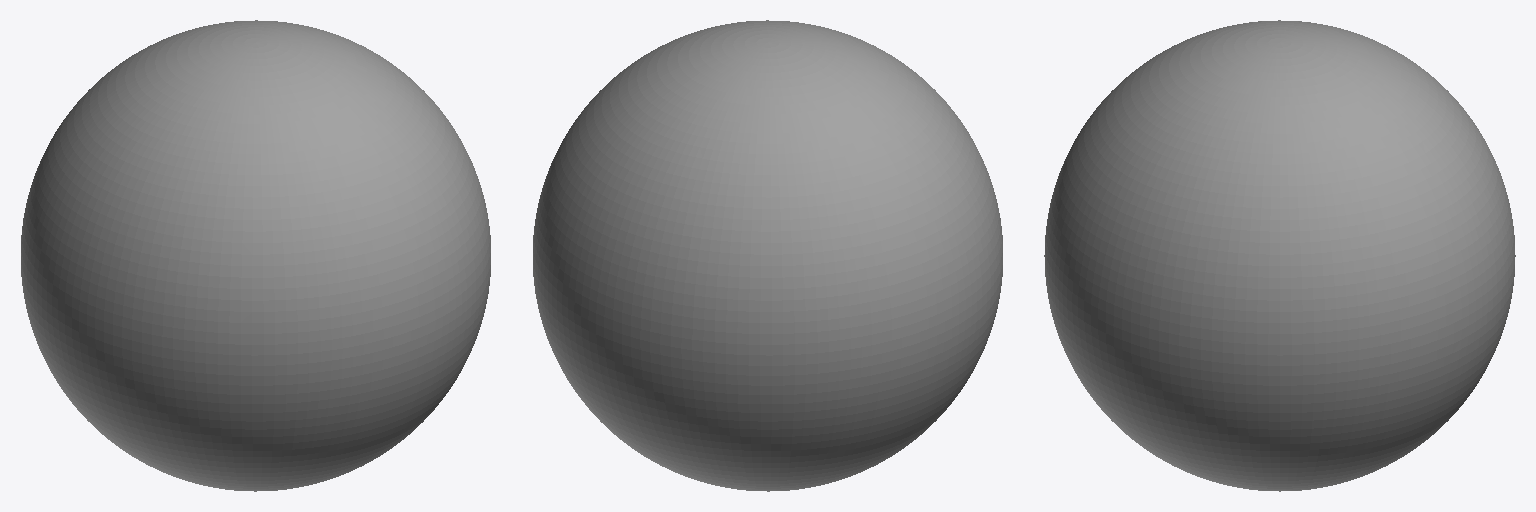
File: SteelBallTooSmall.obj
3 views of the same model, side by side, from view 1: azimuth 30°, elevation 25°; view 2: azimuth 150°, elevation 25°; view 3: azimuth 270°, elevation 25° (orthographic).
Parts seen in each view (by area): view 1: SteelBall_Sphere; view 2: SteelBall_Sphere; view 3: SteelBall_Sphere.
Part boxes in pixels (bbox=[...]): SteelBall_Sphere: bbox=[21, 20, 490, 491]; SteelBall_Sphere: bbox=[533, 20, 1002, 491]; SteelBall_Sphere: bbox=[1044, 20, 1515, 491].
Size of the model in its own units: 0.5 by 0.5 by 0.5.